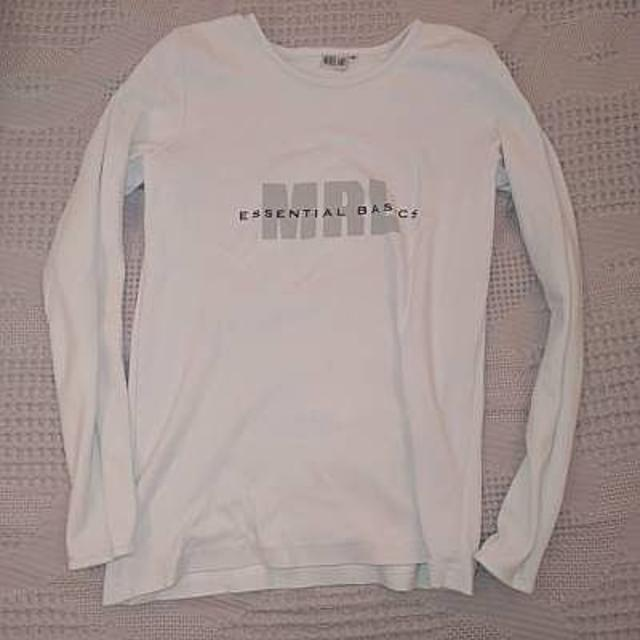SHIRT: (36, 10, 593, 609)
